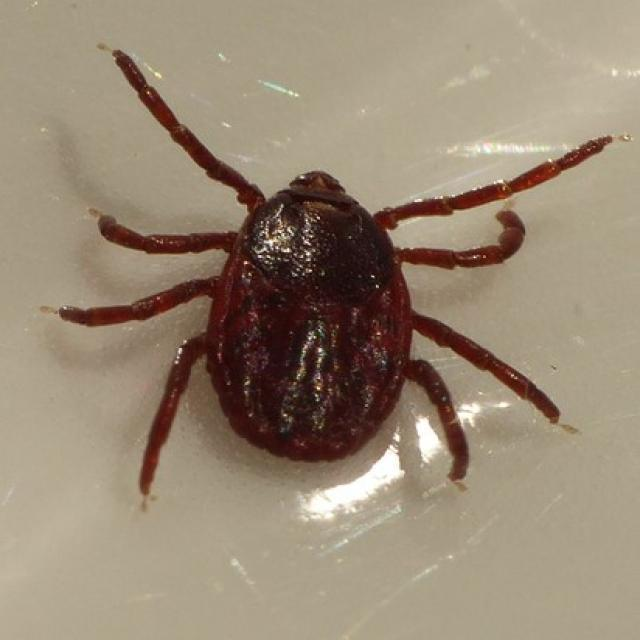Rhipicephalus Sanguineus-F: (56, 52, 612, 498)
